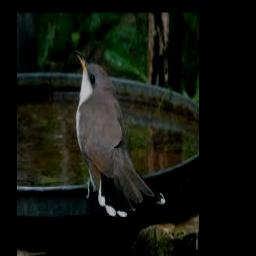Cuckoo: (73, 49, 166, 217)
